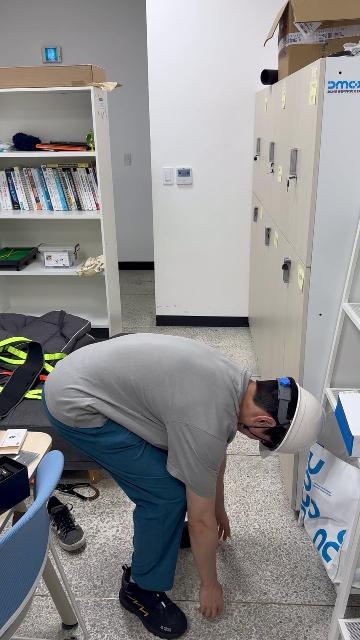helmet_worn: (246, 374, 326, 462)
shoe_worn: (112, 567, 191, 639)
vest_not_worn: (46, 337, 226, 476)
